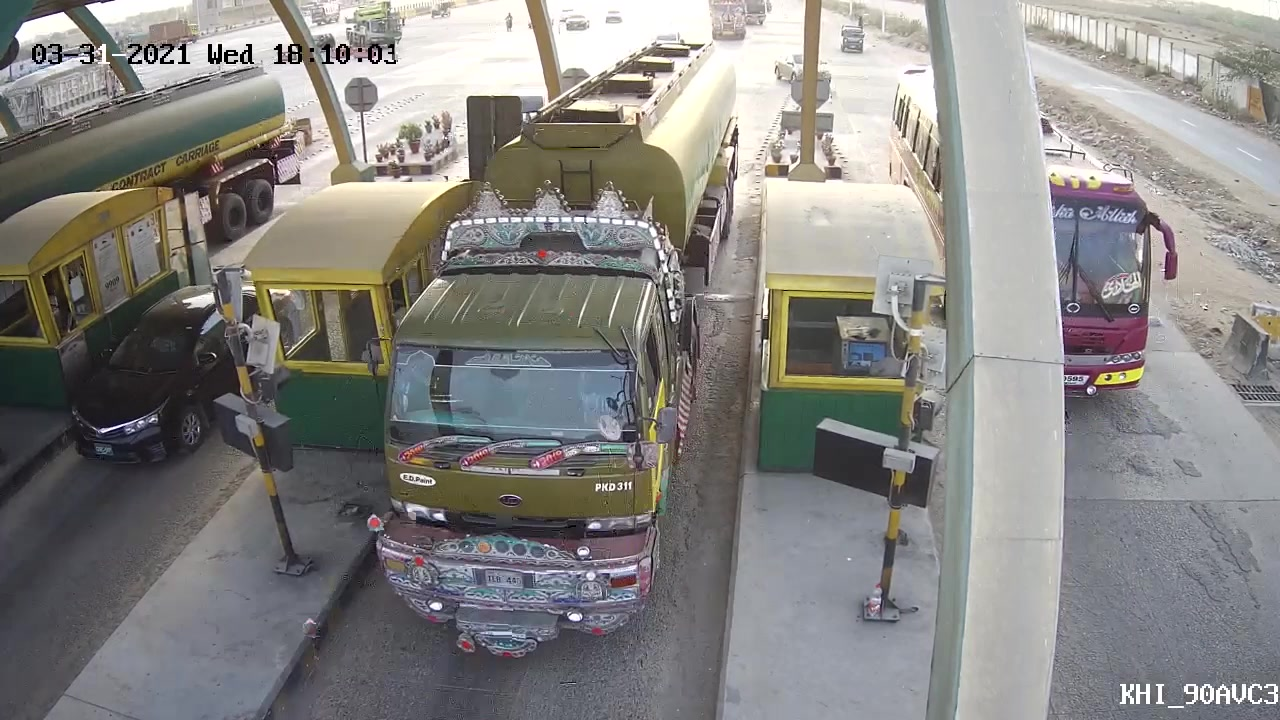F6: (361, 34, 762, 664)
